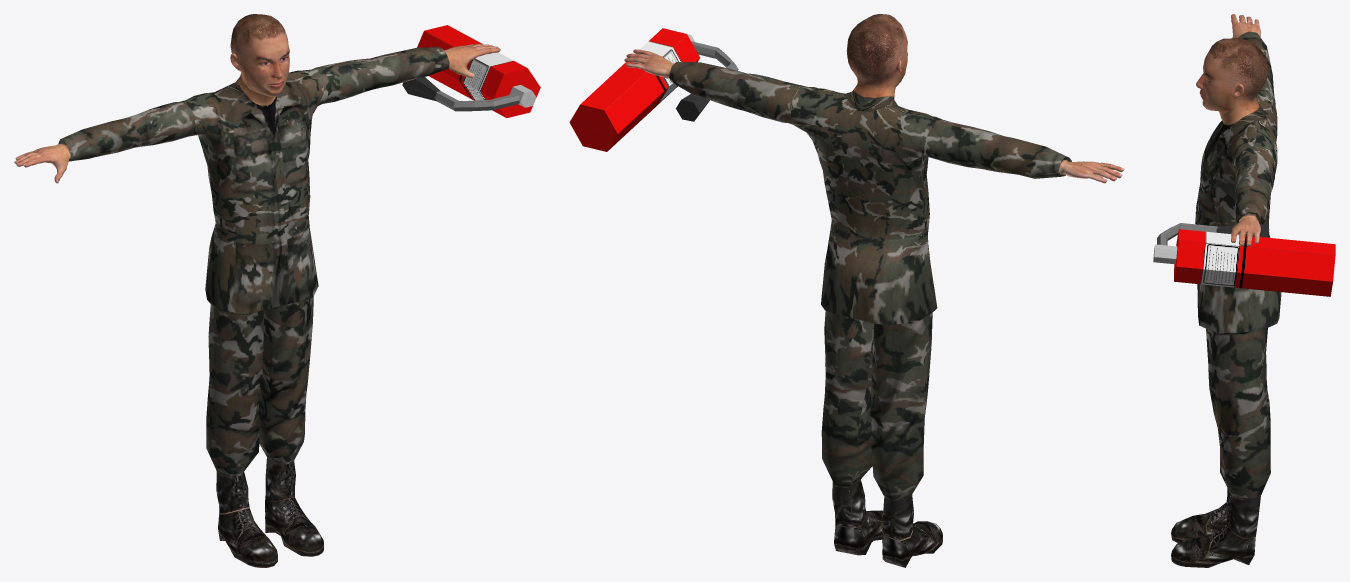
File: CrewMemberExting.fbx
3 views of the same model, side by side, from view 1: azimuth 30°, elevation 25°; view 2: azimuth 150°, elevation 25°; view 3: azimuth 270°, elevation 25° (orthographic). The views are drawn at different scales.
Parts seen in each view (by area): view 1: FireExtinguisher_Mesh1; view 2: FireExtinguisher_Mesh1; view 3: FireExtinguisher_Mesh1.
Boxes of the visible parts, bbox=[...] form: FireExtinguisher_Mesh1: bbox=[14, 14, 540, 567]; FireExtinguisher_Mesh1: bbox=[569, 14, 1124, 567]; FireExtinguisher_Mesh1: bbox=[1153, 14, 1335, 567].
Bounding box in the file's own units: 1.77 × 1.8 × 0.5831.
Materials: 1 (1 with a texture image).
